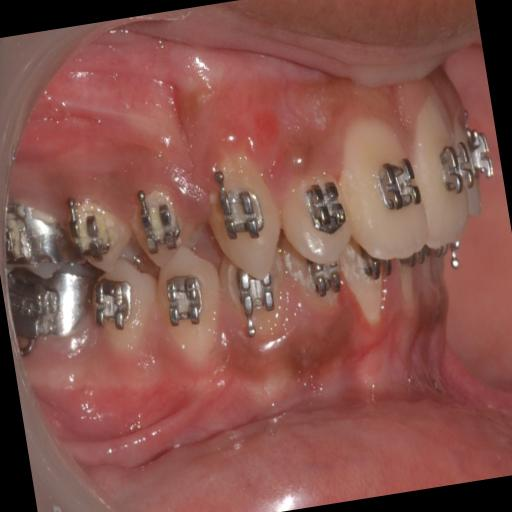correct_brace: (148, 238, 230, 370), (121, 170, 197, 276), (374, 143, 428, 227), (429, 125, 476, 208), (158, 264, 208, 337), (299, 168, 349, 240), (215, 174, 265, 246), (92, 268, 140, 336)
incorrect_brace: (274, 161, 360, 274), (134, 186, 183, 255)
